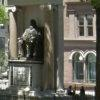Statue: (14, 13, 54, 65)
